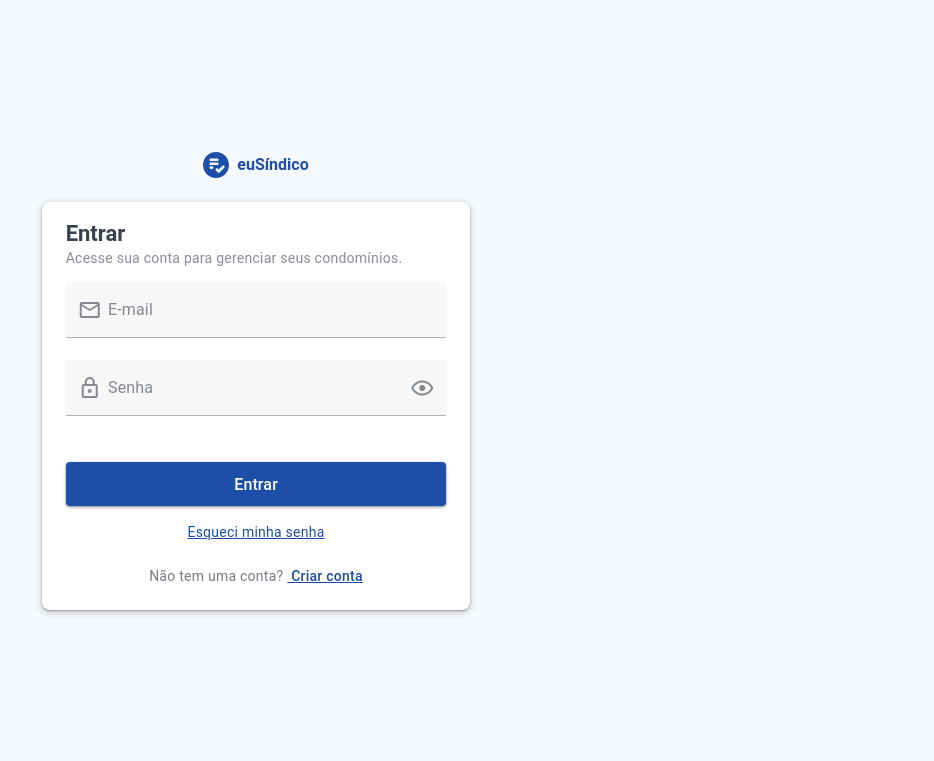
Test: Prédios (RF08-RF11) › exibe o estado vazio quando o usuário não tem nenhum prédio
In the element with test id "email": (257, 321) [66,282,447,360], type "sindico@exemplo.com"
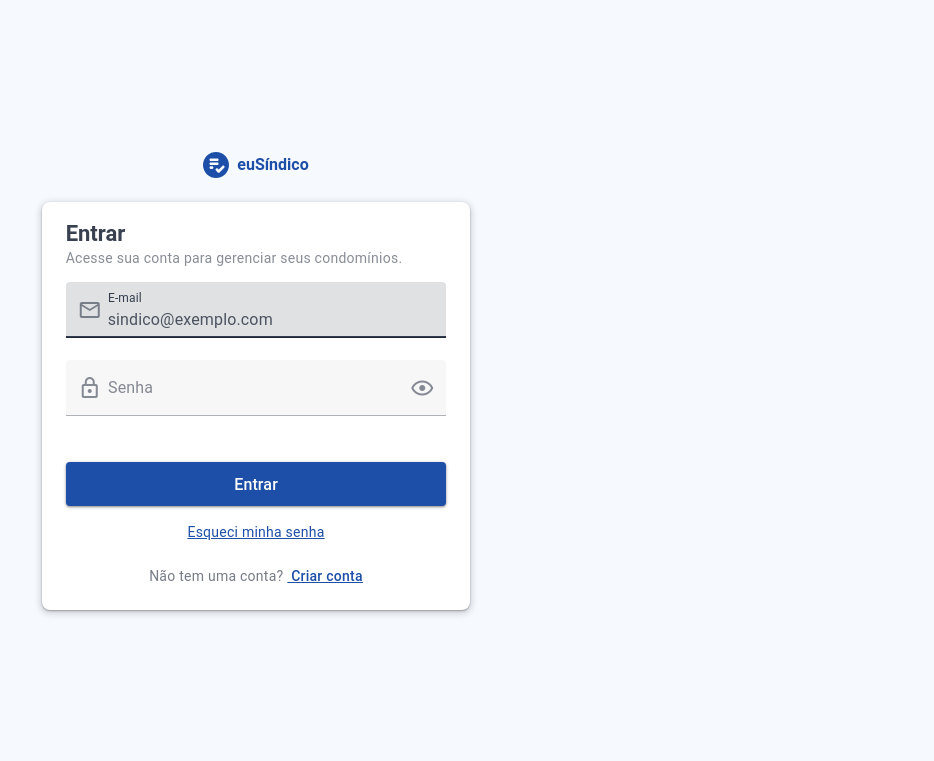
In the element with test id "senha": (257, 399) [66,360,447,438], type "SenhaForte1!"
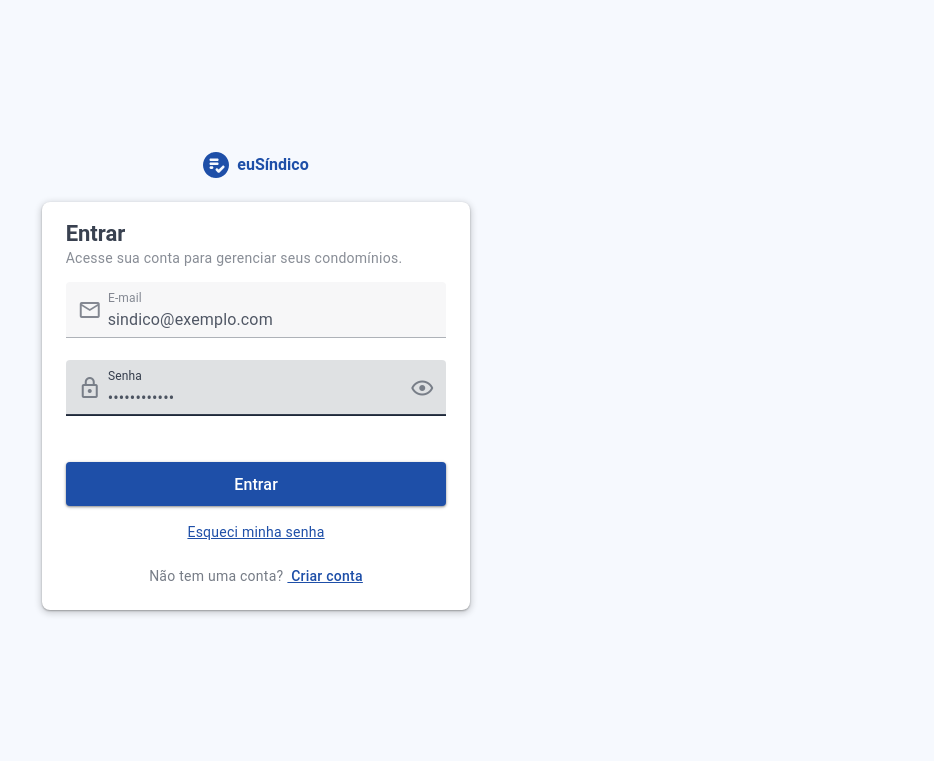
Click the button with test id "btn-entrar": (257, 484) [66,462,447,506]
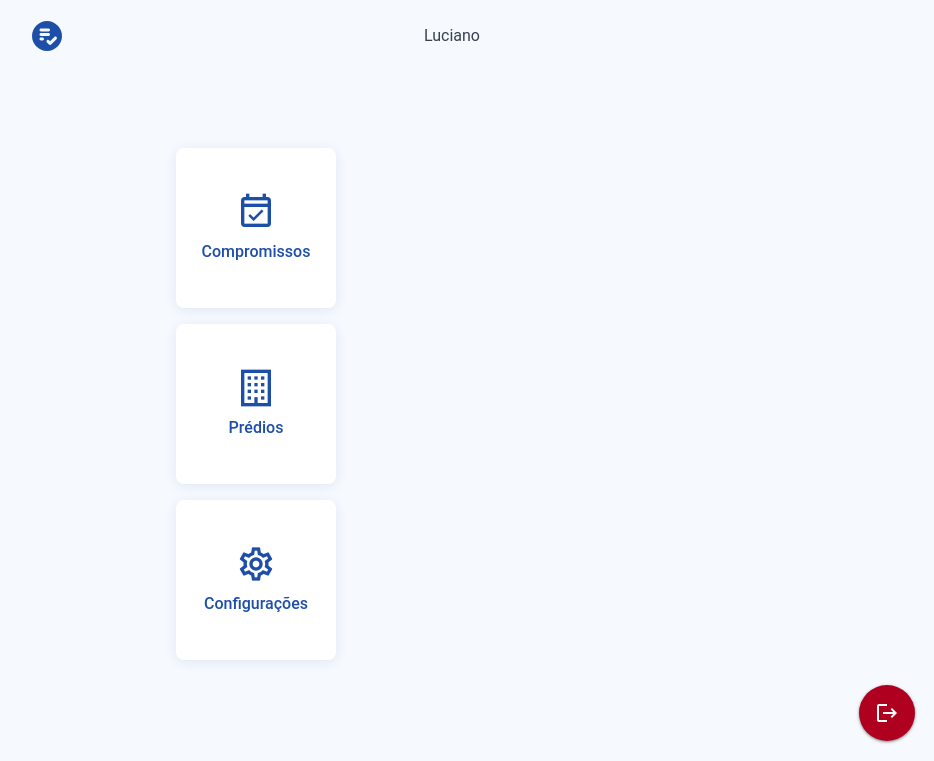
Click the link with test id "card-predios": (256, 404) [176,324,336,484]
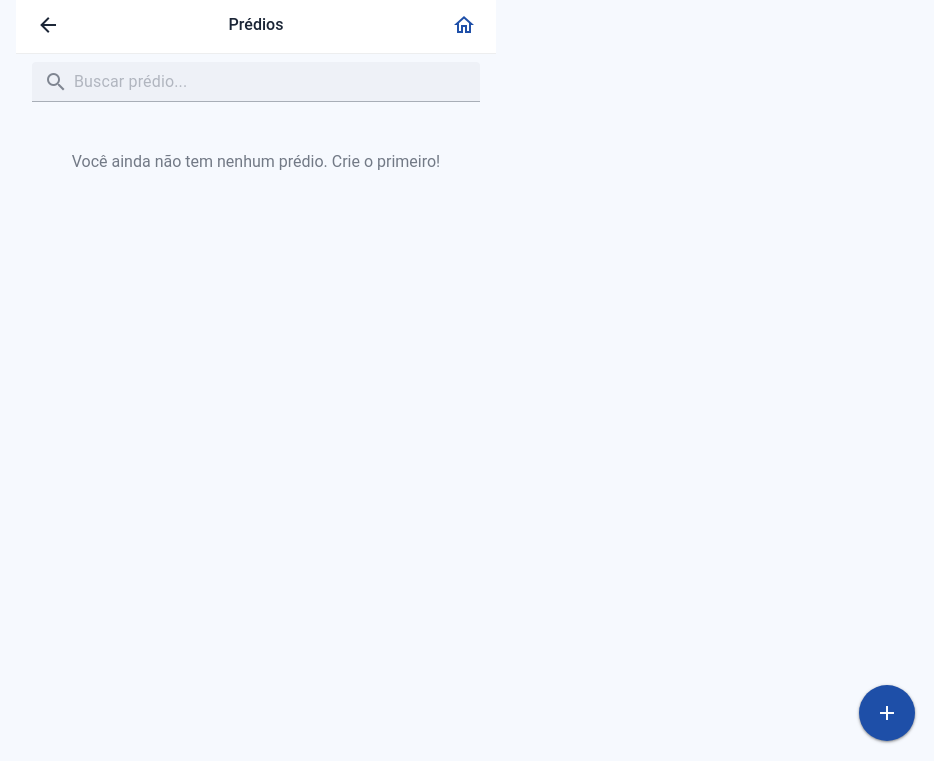
Expected: the text with test id "predios-vazio" shows "Você ainda não tem nenhum prédio", [72,152,441,171]
